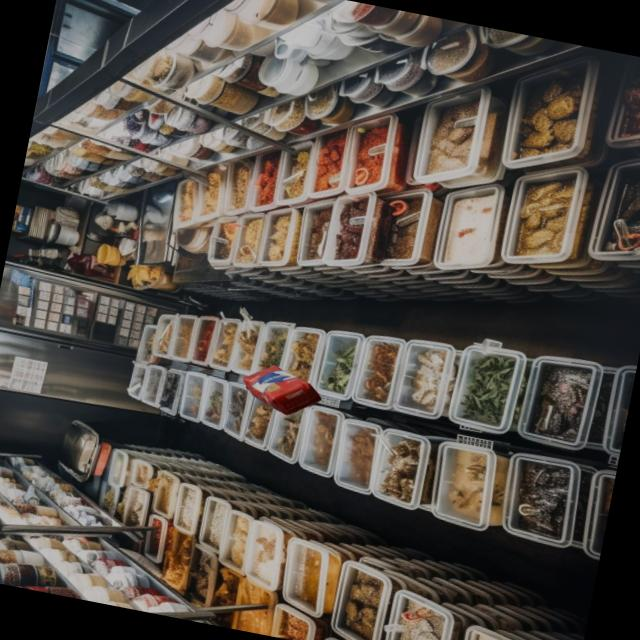mate bag: (243, 362, 325, 420)
